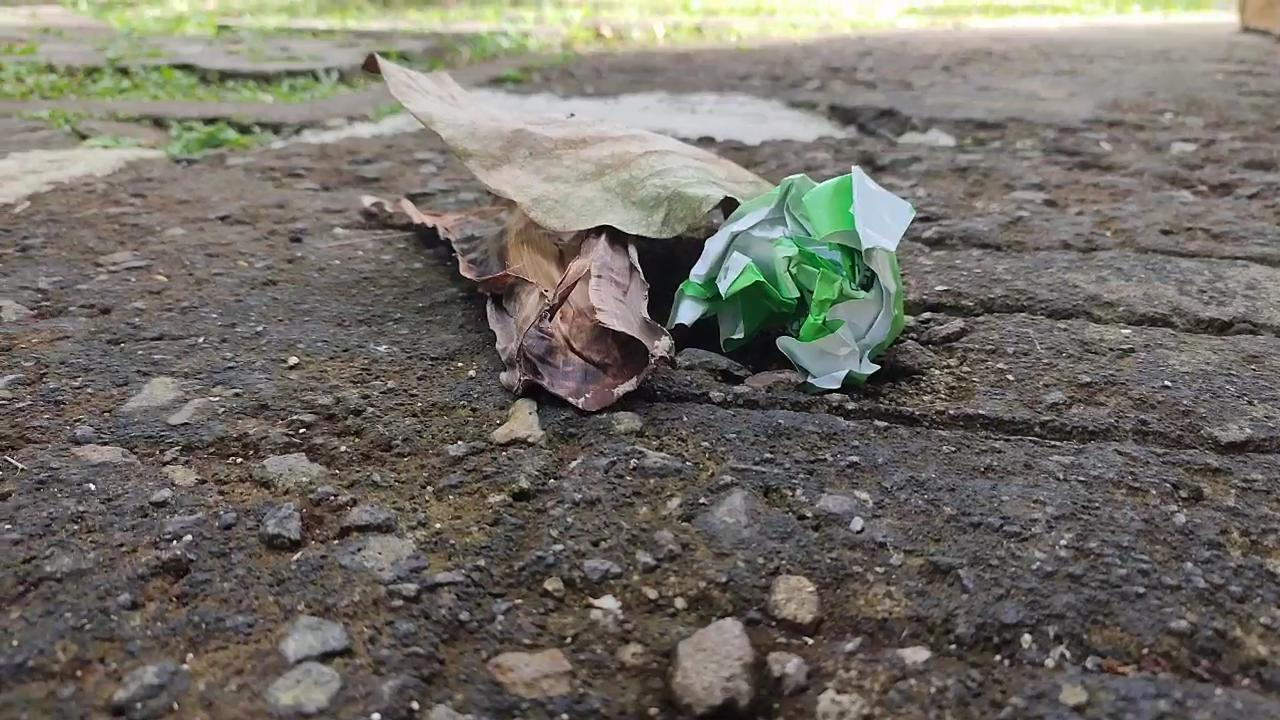Paper: (672, 168, 934, 403)
